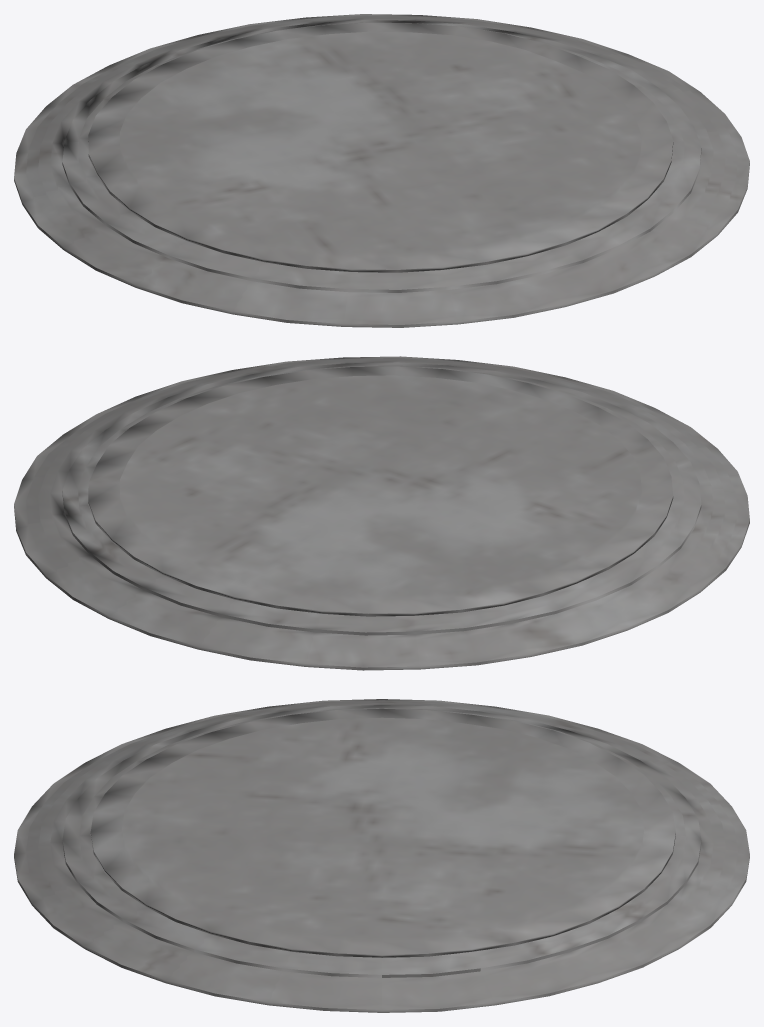
File: field_helloween_dansa.fbx
3 renders of one model, top to bottom at view 1: azimuth 30°, elevation 25°; view 2: azimuth 150°, elevation 25°; view 3: azimuth 270°, elevation 25°, orthographic.
Visible parts, largest first — view 1: field_helloween_dansa; view 2: field_helloween_dansa; view 3: field_helloween_dansa.
Boxes of the visible parts, <box> form: field_helloween_dansa: <box>14,14,749,327</box>; field_helloween_dansa: <box>14,356,749,670</box>; field_helloween_dansa: <box>14,699,749,1012</box>.
Bounding box in the file's own units: 7054 × 351 × 7054.
Materials: 1 (1 with a texture image).
